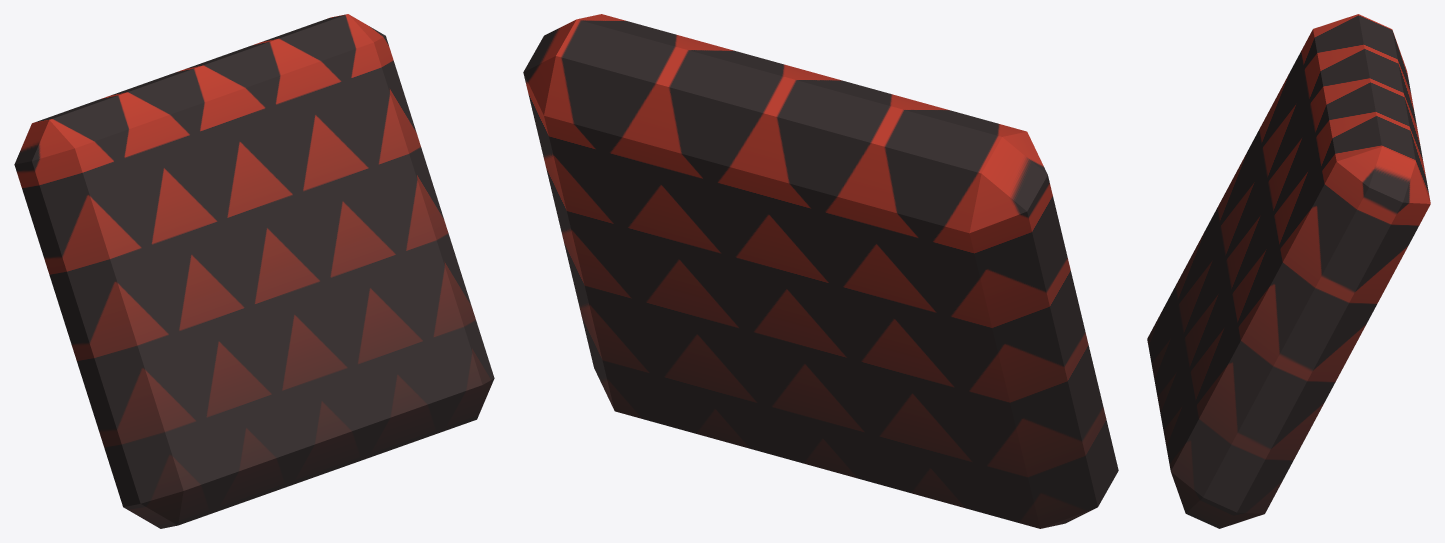
Rendered from couch_pillow.fbx.
3 views of the same model, side by side, from view 1: azimuth 30°, elevation 25°; view 2: azimuth 150°, elevation 25°; view 3: azimuth 270°, elevation 25° (orthographic). The views are drawn at different scales.
Visible parts, largest first — view 1: couch_pillow; view 2: couch_pillow; view 3: couch_pillow.
Boxes of the visible parts, x1,y1,x2,y2 form: couch_pillow: (14,14,494,528); couch_pillow: (523,14,1118,528); couch_pillow: (1147,14,1430,528).
Bounding box in the file's own units: 56.81 × 52.11 × 34.48.
